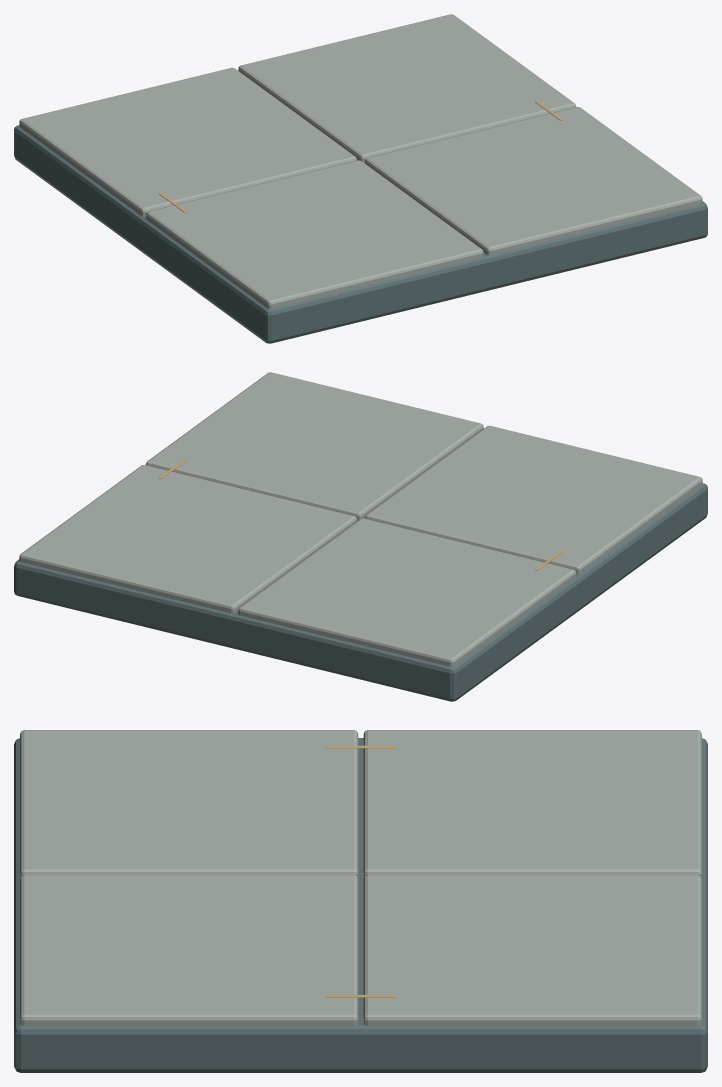
File: training_tile.glb
3 renders of one model, top to bottom at view 1: azimuth 30°, elevation 25°; view 2: azimuth 150°, elevation 25°; view 3: azimuth 270°, elevation 25°, orthographic. The views are drawn at different scales.
Visible parts, largest first — view 1: Dressed stone slab, Dressed stone slab.002, Dressed stone slab.001, Dressed stone slab.003, Basalt foundation; view 2: Dressed stone slab.001, Dressed stone slab.003, Dressed stone slab, Dressed stone slab.002, Basalt foundation; view 3: Dressed stone slab.002, Dressed stone slab.003, Dressed stone slab, Dressed stone slab.001, Basalt foundation.
Part boxes in pixels (x1,y1,x2,y2): Dressed stone slab: (145,160,483,308); Dressed stone slab.002: (365,107,702,255); Dressed stone slab.001: (19,67,356,215); Dressed stone slab.003: (238,14,576,162); Basalt foundation: (14,125,707,343); Dressed stone slab.001: (238,518,576,666); Dressed stone slab.003: (19,465,356,613); Dressed stone slab: (365,425,702,573); Dressed stone slab.002: (145,372,483,520); Basalt foundation: (14,483,707,701); Dressed stone slab.002: (20,875,358,1026); Dressed stone slab.003: (363,875,701,1026); Dressed stone slab: (20,730,358,878); Dressed stone slab.001: (363,730,701,878); Basalt foundation: (14,738,707,1072).
Bounding box in the file's own units: 4 × 0.368 × 4.
